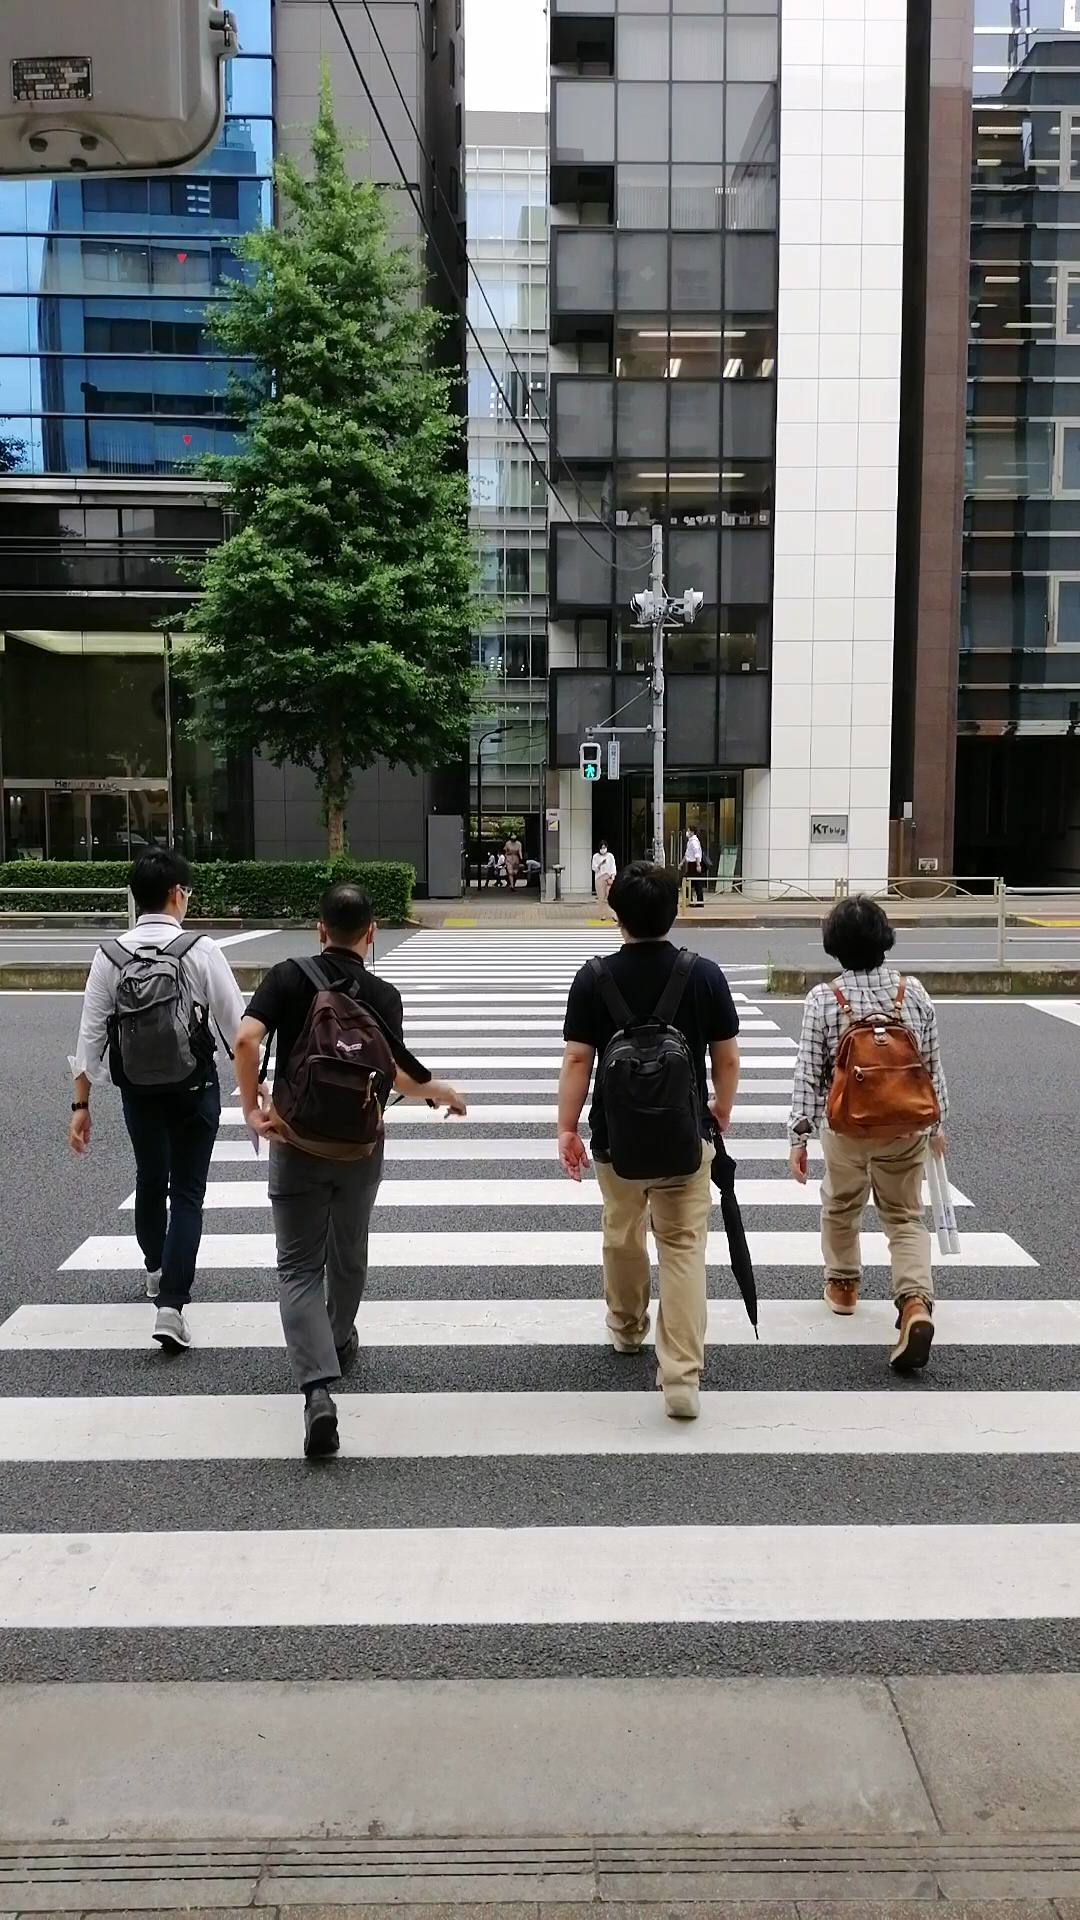green: (578, 742, 600, 781)
